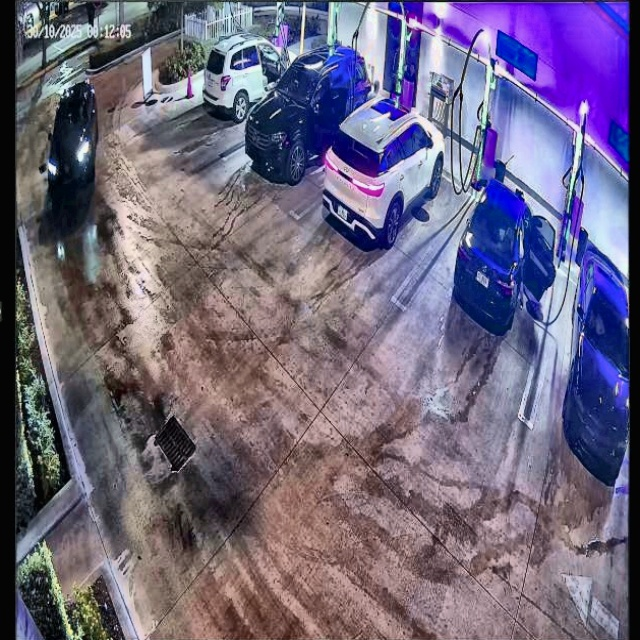Car: (325, 92, 443, 251), (454, 168, 555, 340), (244, 44, 369, 173)
